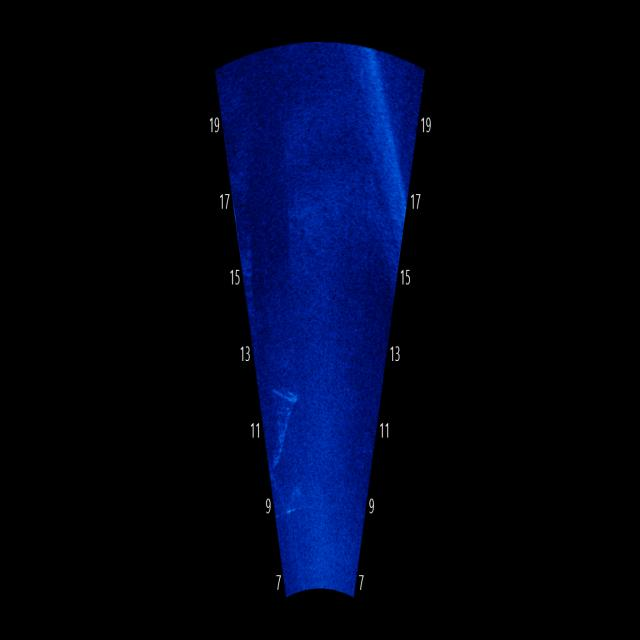triangle: (268, 376, 306, 470)
